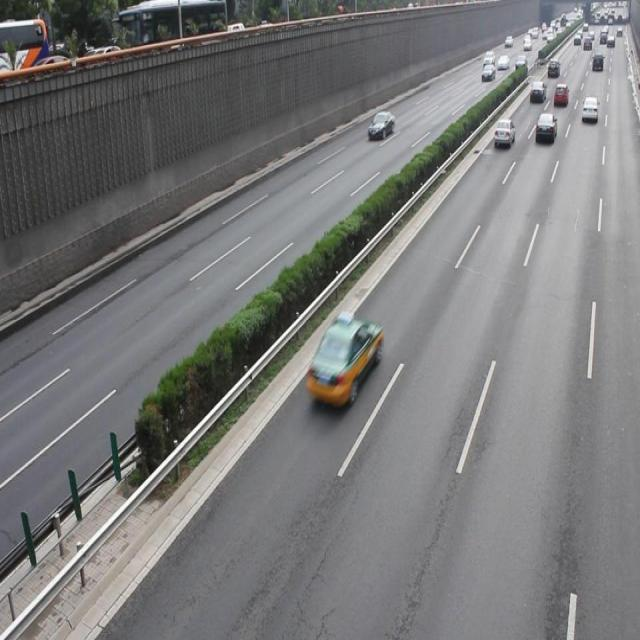car: (304, 313, 383, 406)
